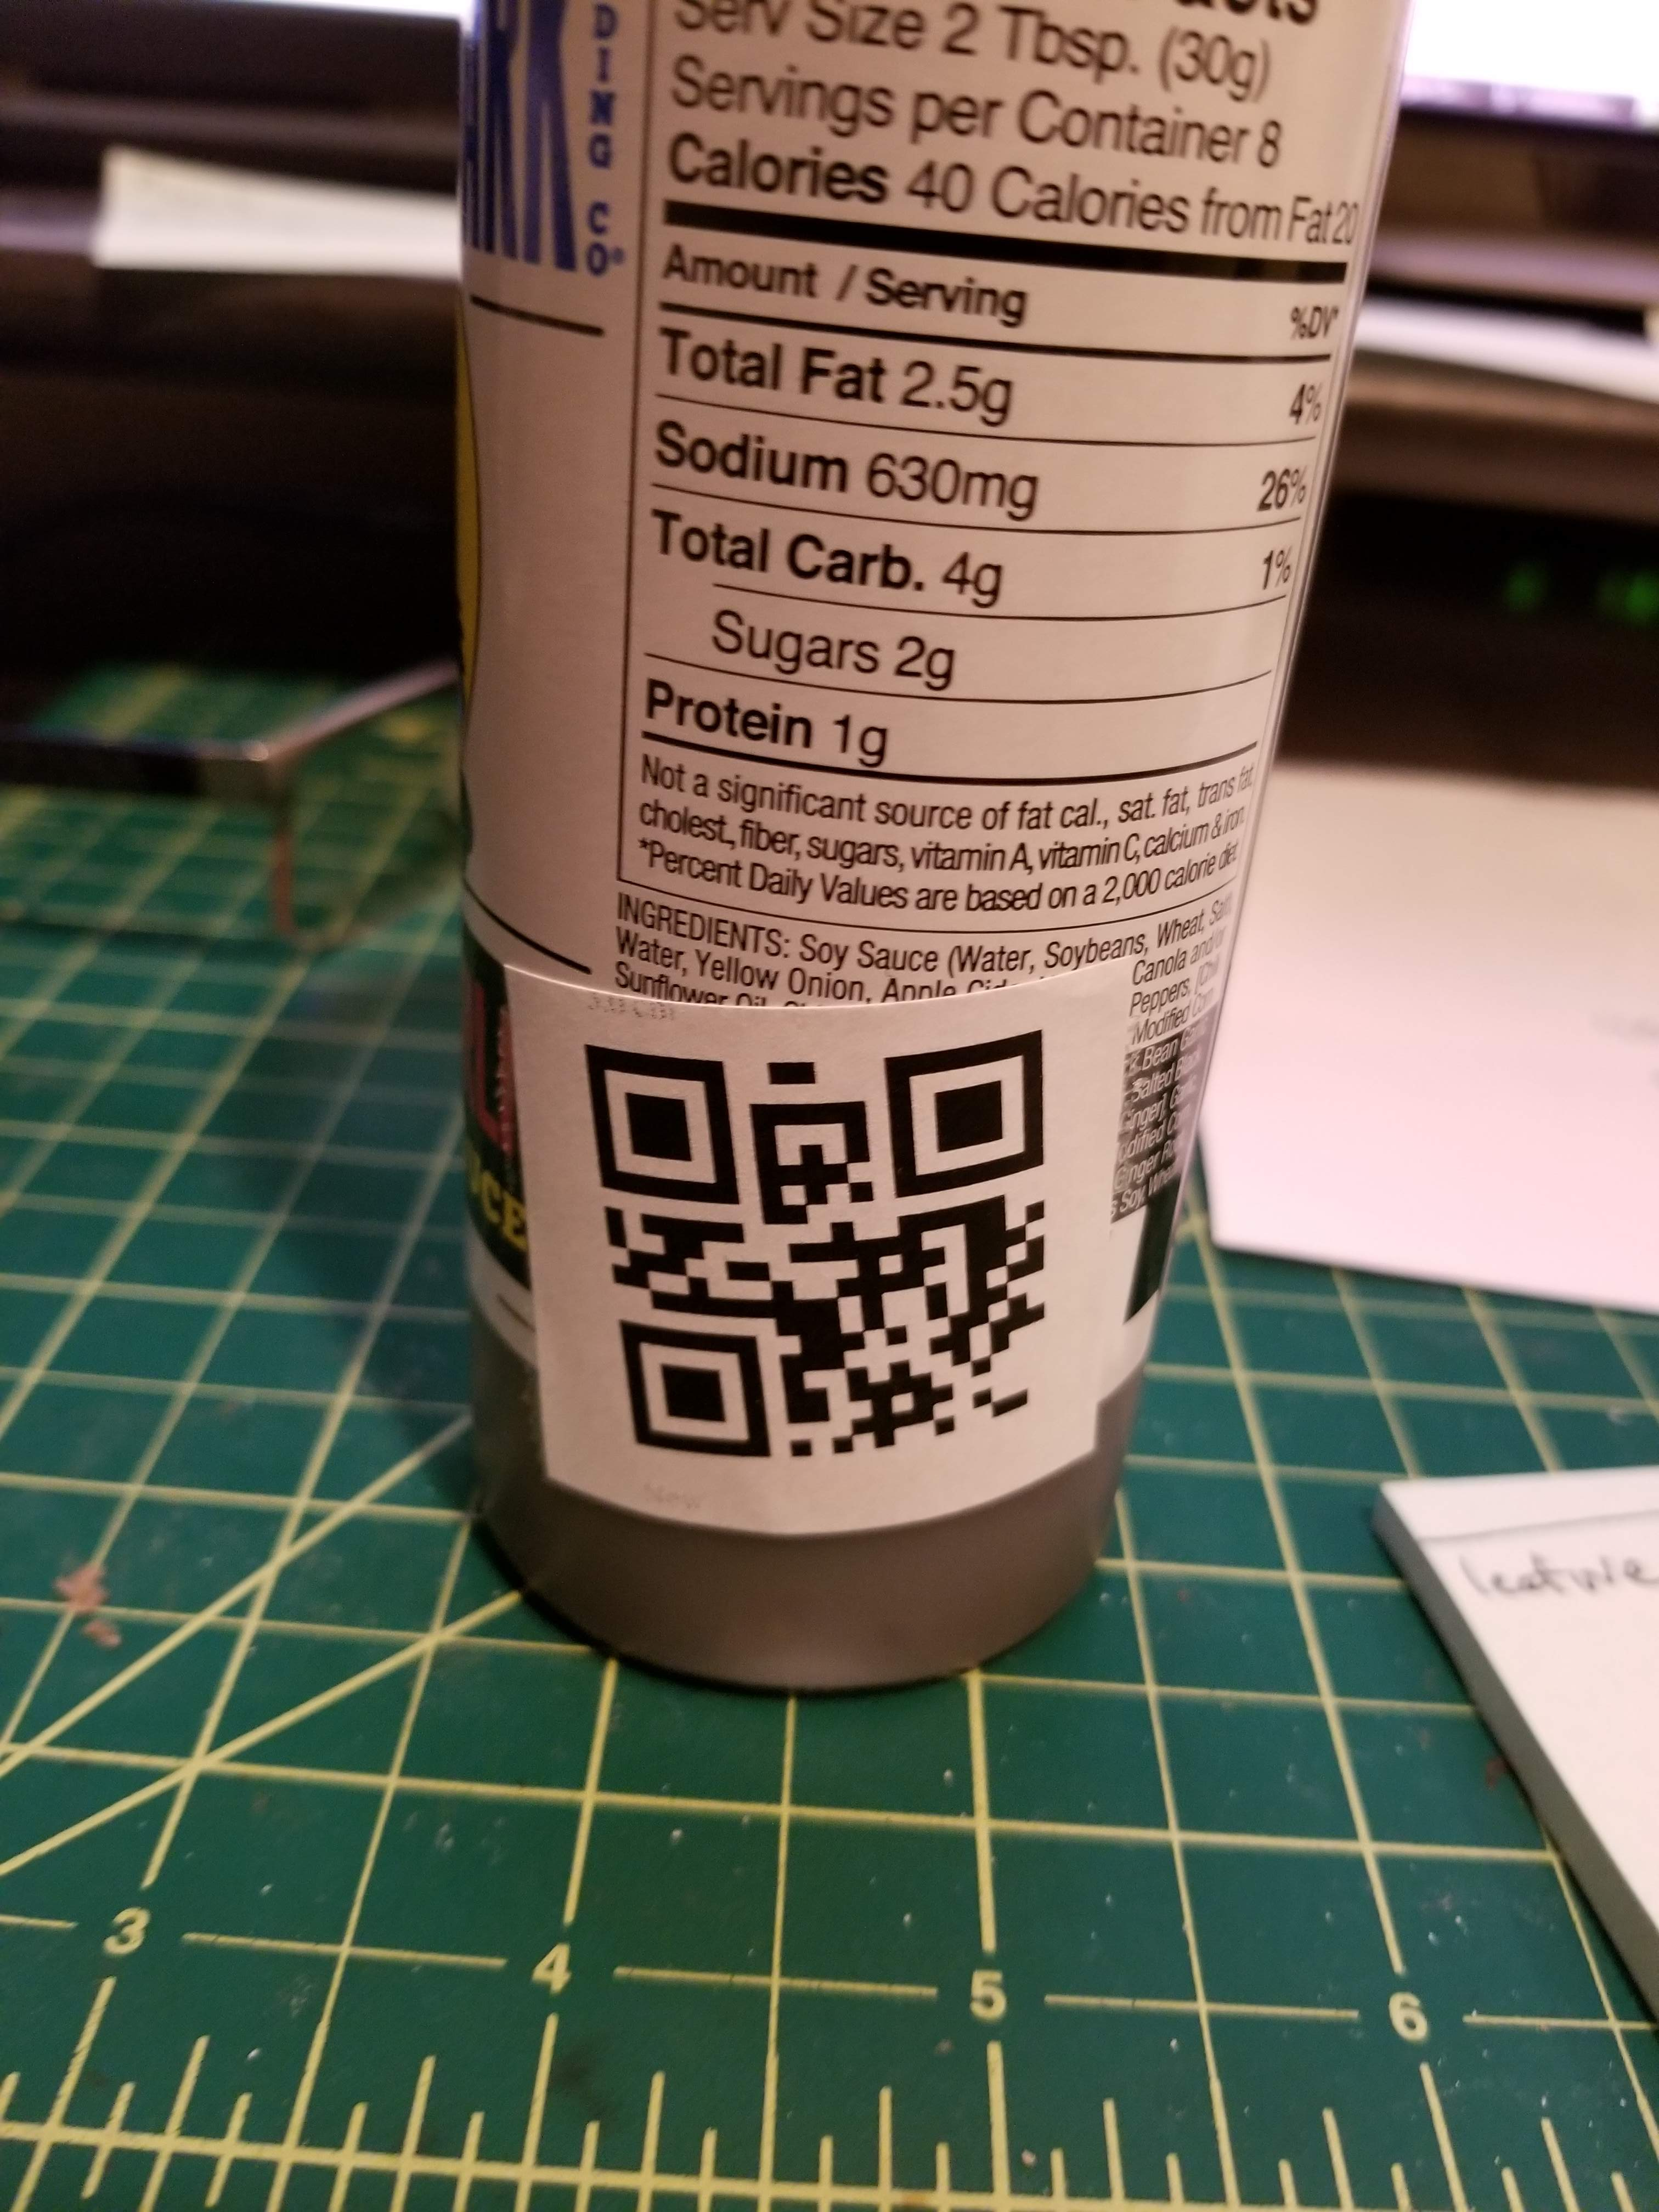QR_CODE: (556, 974, 1070, 1519)
